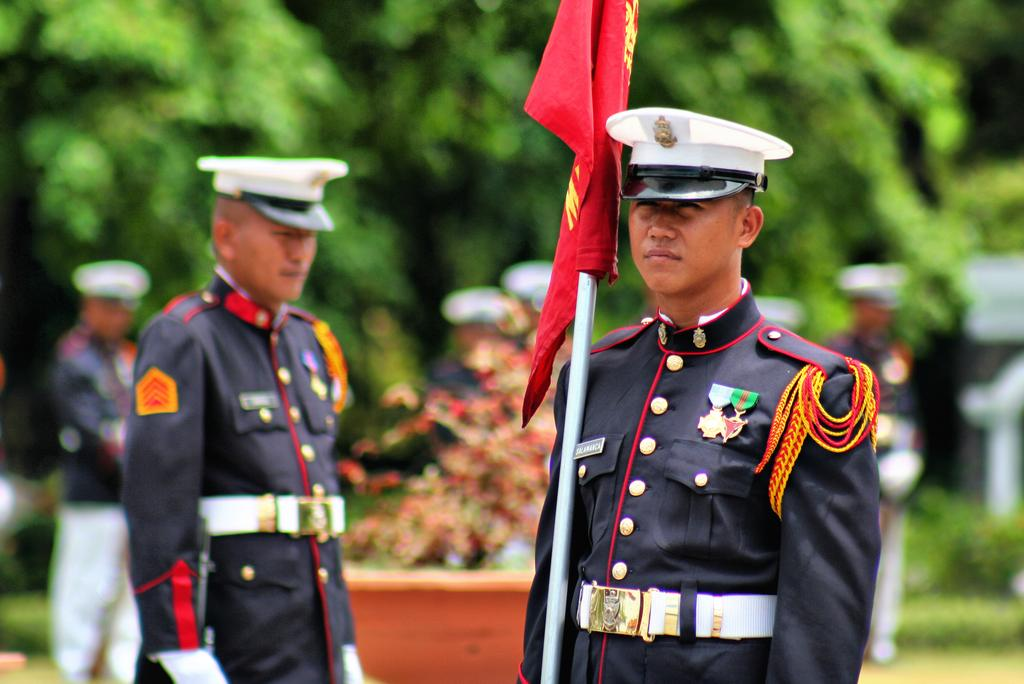Hat: (602, 109, 794, 198), (194, 159, 349, 234), (72, 262, 151, 312)
